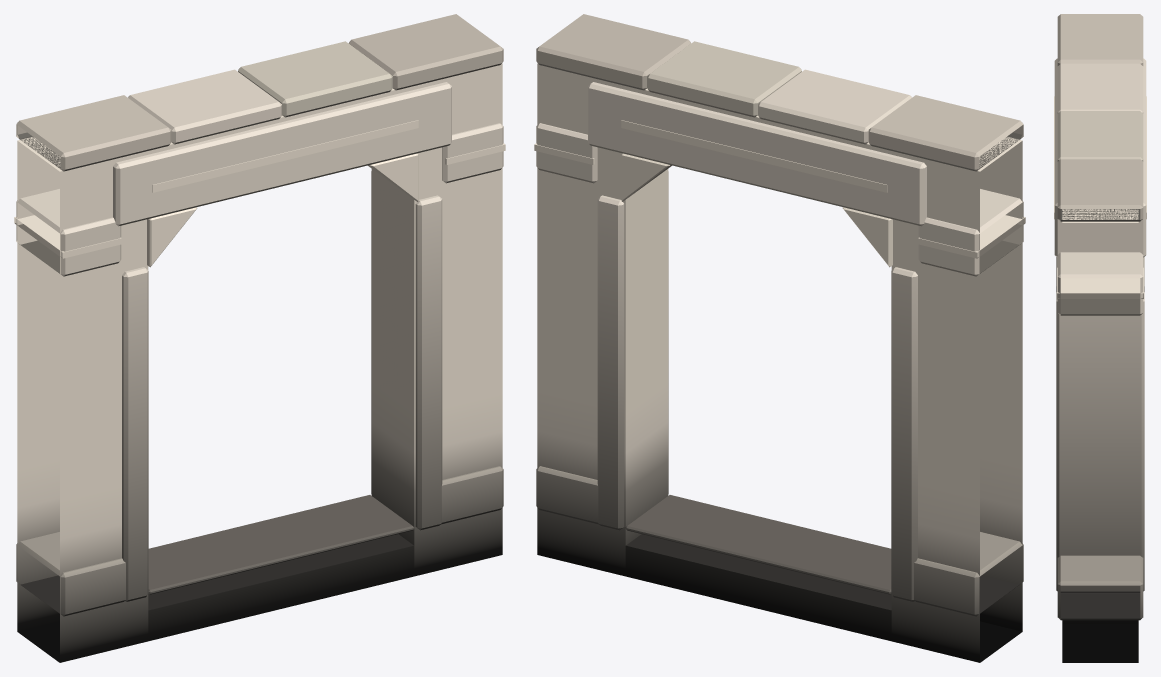
The model's file is SM_VKI_Wall_Dwarf_DoorWide_300_Full.fbx.
The picture shows the model from 3 angles, left to right: view 1: azimuth 30°, elevation 25°; view 2: azimuth 150°, elevation 25°; view 3: azimuth 270°, elevation 25°; orthographic projection. The views are drawn at different scales.
Visible parts, largest first — view 1: SM_VKI_Wall_Dwarf_DoorWide_300_Full.001; view 2: SM_VKI_Wall_Dwarf_DoorWide_300_Full.001; view 3: SM_VKI_Wall_Dwarf_DoorWide_300_Full.001.
Boxes of the visible parts, x1,y1,x2,y2 form: SM_VKI_Wall_Dwarf_DoorWide_300_Full.001: (14, 14, 505, 662); SM_VKI_Wall_Dwarf_DoorWide_300_Full.001: (534, 14, 1025, 662); SM_VKI_Wall_Dwarf_DoorWide_300_Full.001: (1054, 14, 1146, 662).
Size of the model in its own units: 3 by 3.3 by 0.608.
